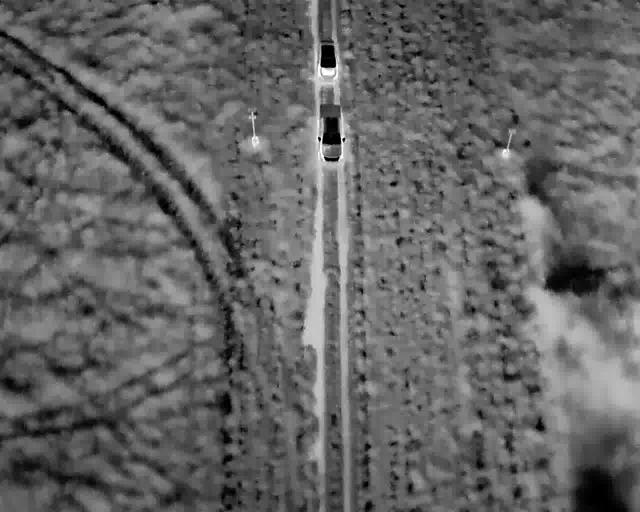car: (317, 102, 347, 163), (315, 39, 340, 81)
